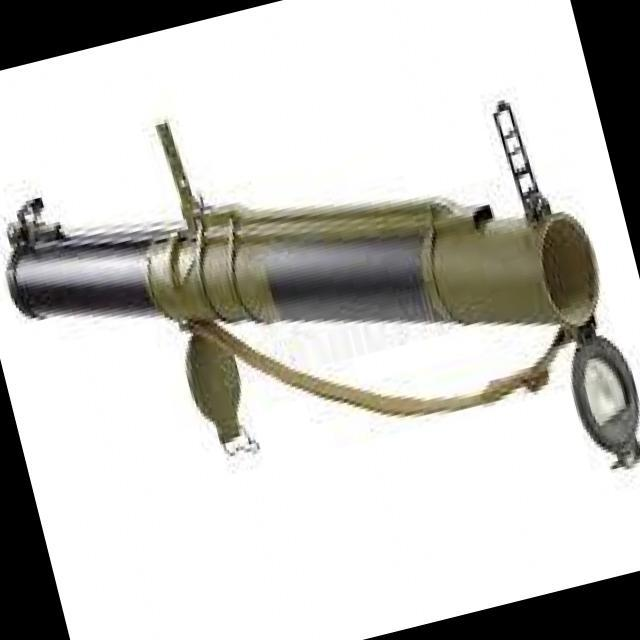rocket: (0, 51, 640, 600)
